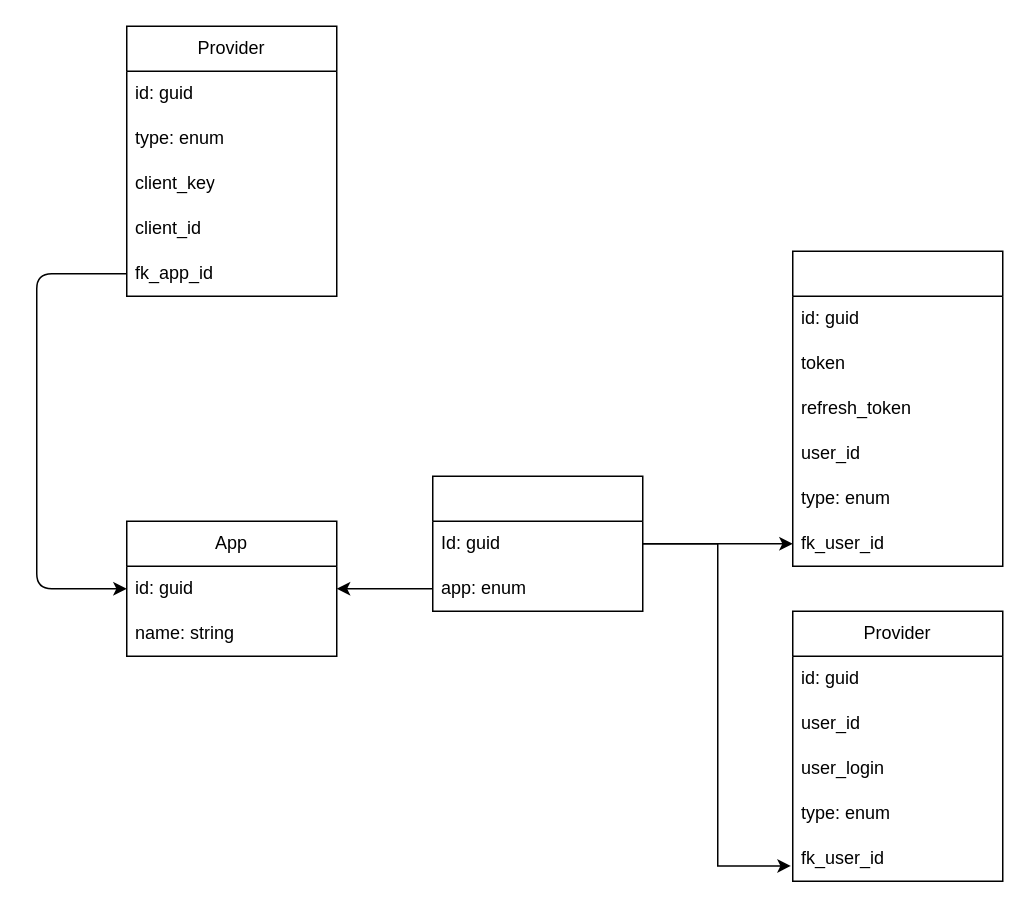
Some shapes in this 1029 by 908 pixel diagram are drawn without their labels. Each missing label, with the box of its shape:
Connections: (791, 250, 1003, 566)
User: (431, 475, 643, 611)
